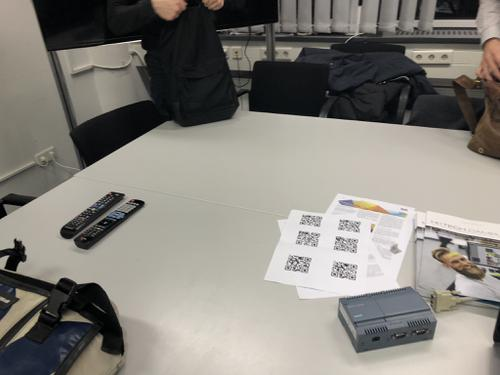device: (338, 286, 438, 354)
